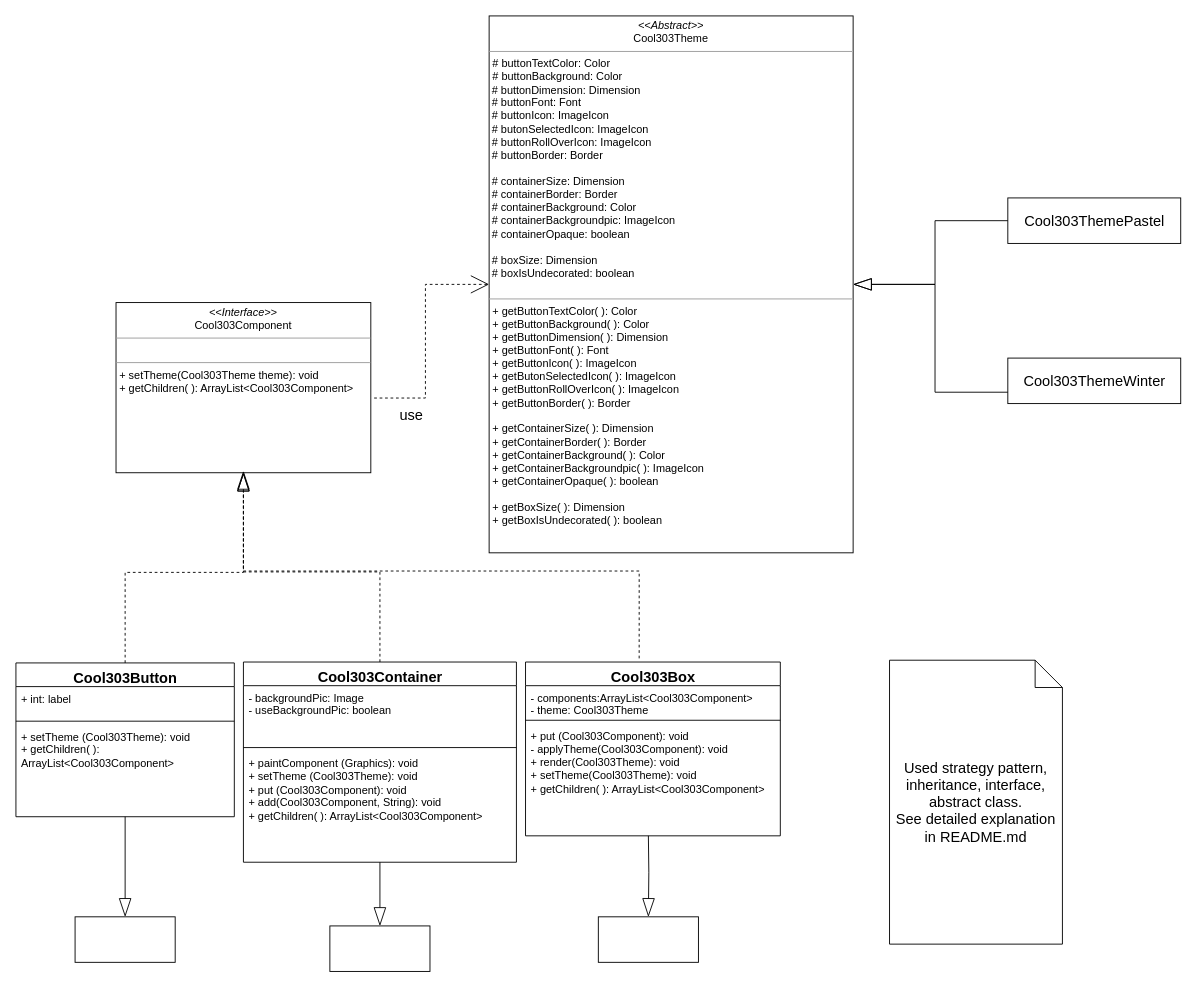
Some shapes in this 1197 by 987 pixel diagram are drawn without their labels. Each missing label, with the centre of its shape:
"JButton" belongs at pixel 124 939.
"JFrame" belongs at pixel 647 939.
"JPanel" belongs at pixel 379 948.
